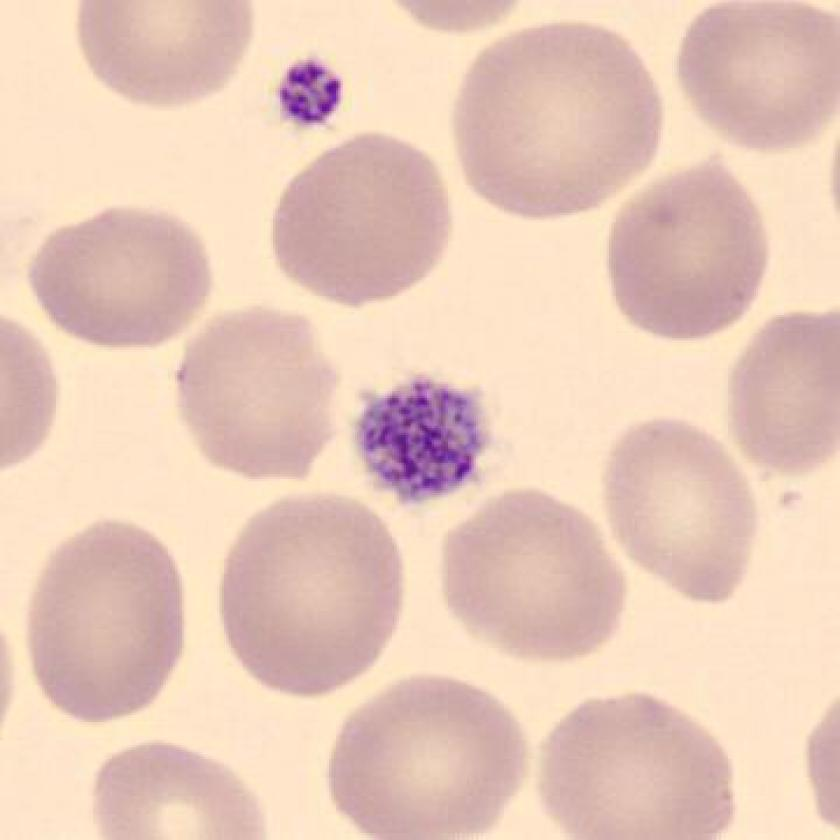platelets: (349, 367, 496, 513), (267, 54, 358, 135)
